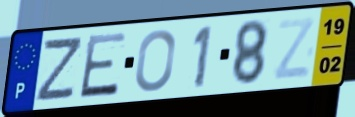1: (192, 24, 214, 90)
8: (228, 17, 270, 89)
E: (77, 30, 129, 101)
O: (133, 27, 178, 94)
Z: (33, 34, 86, 104), (271, 15, 318, 83)
